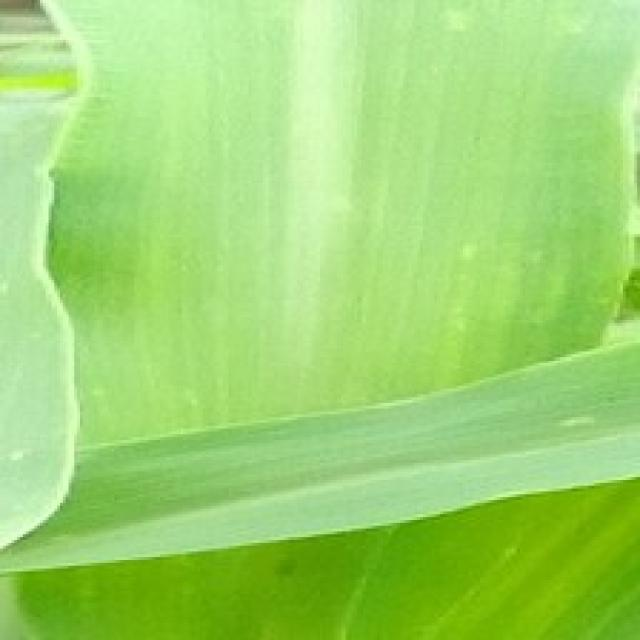Corn: (0, 0, 637, 637), (0, 309, 637, 580), (0, 0, 91, 574)
